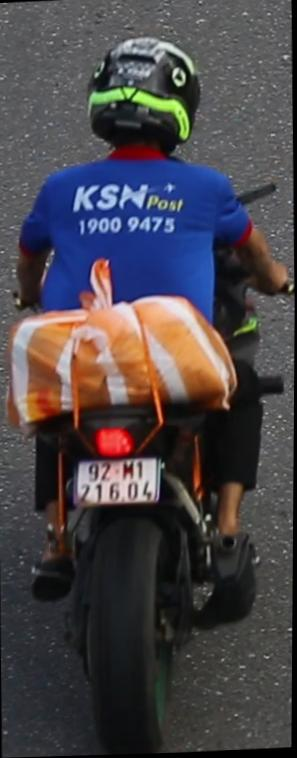LP: (68, 452, 167, 518)
helmet: (81, 28, 205, 177)
